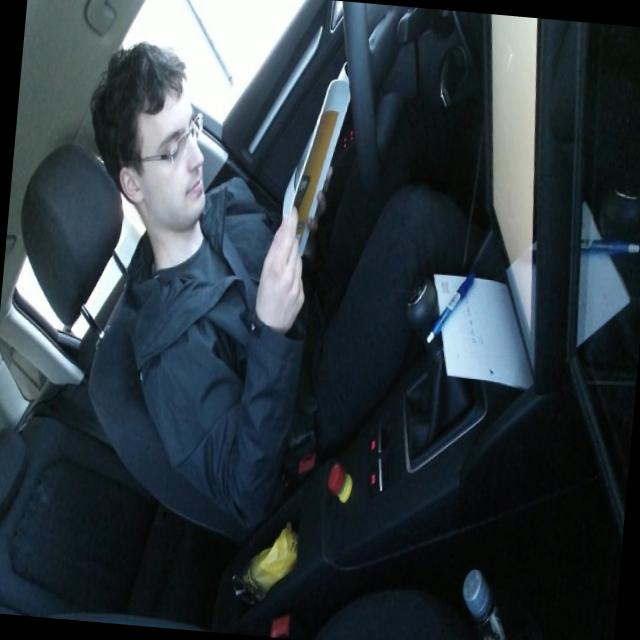pen: (424, 266, 474, 347)
